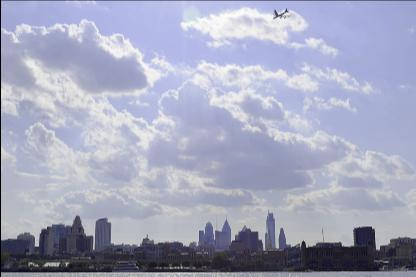B2: (272, 8, 290, 18)
